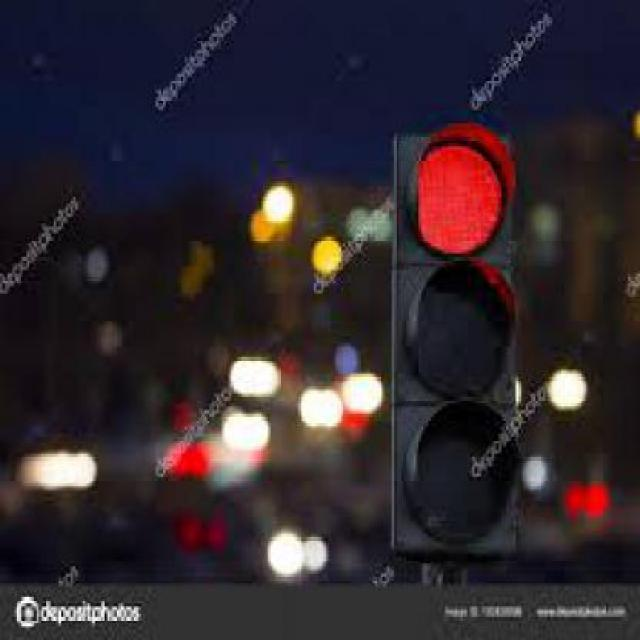red_light: (390, 128, 521, 552)
